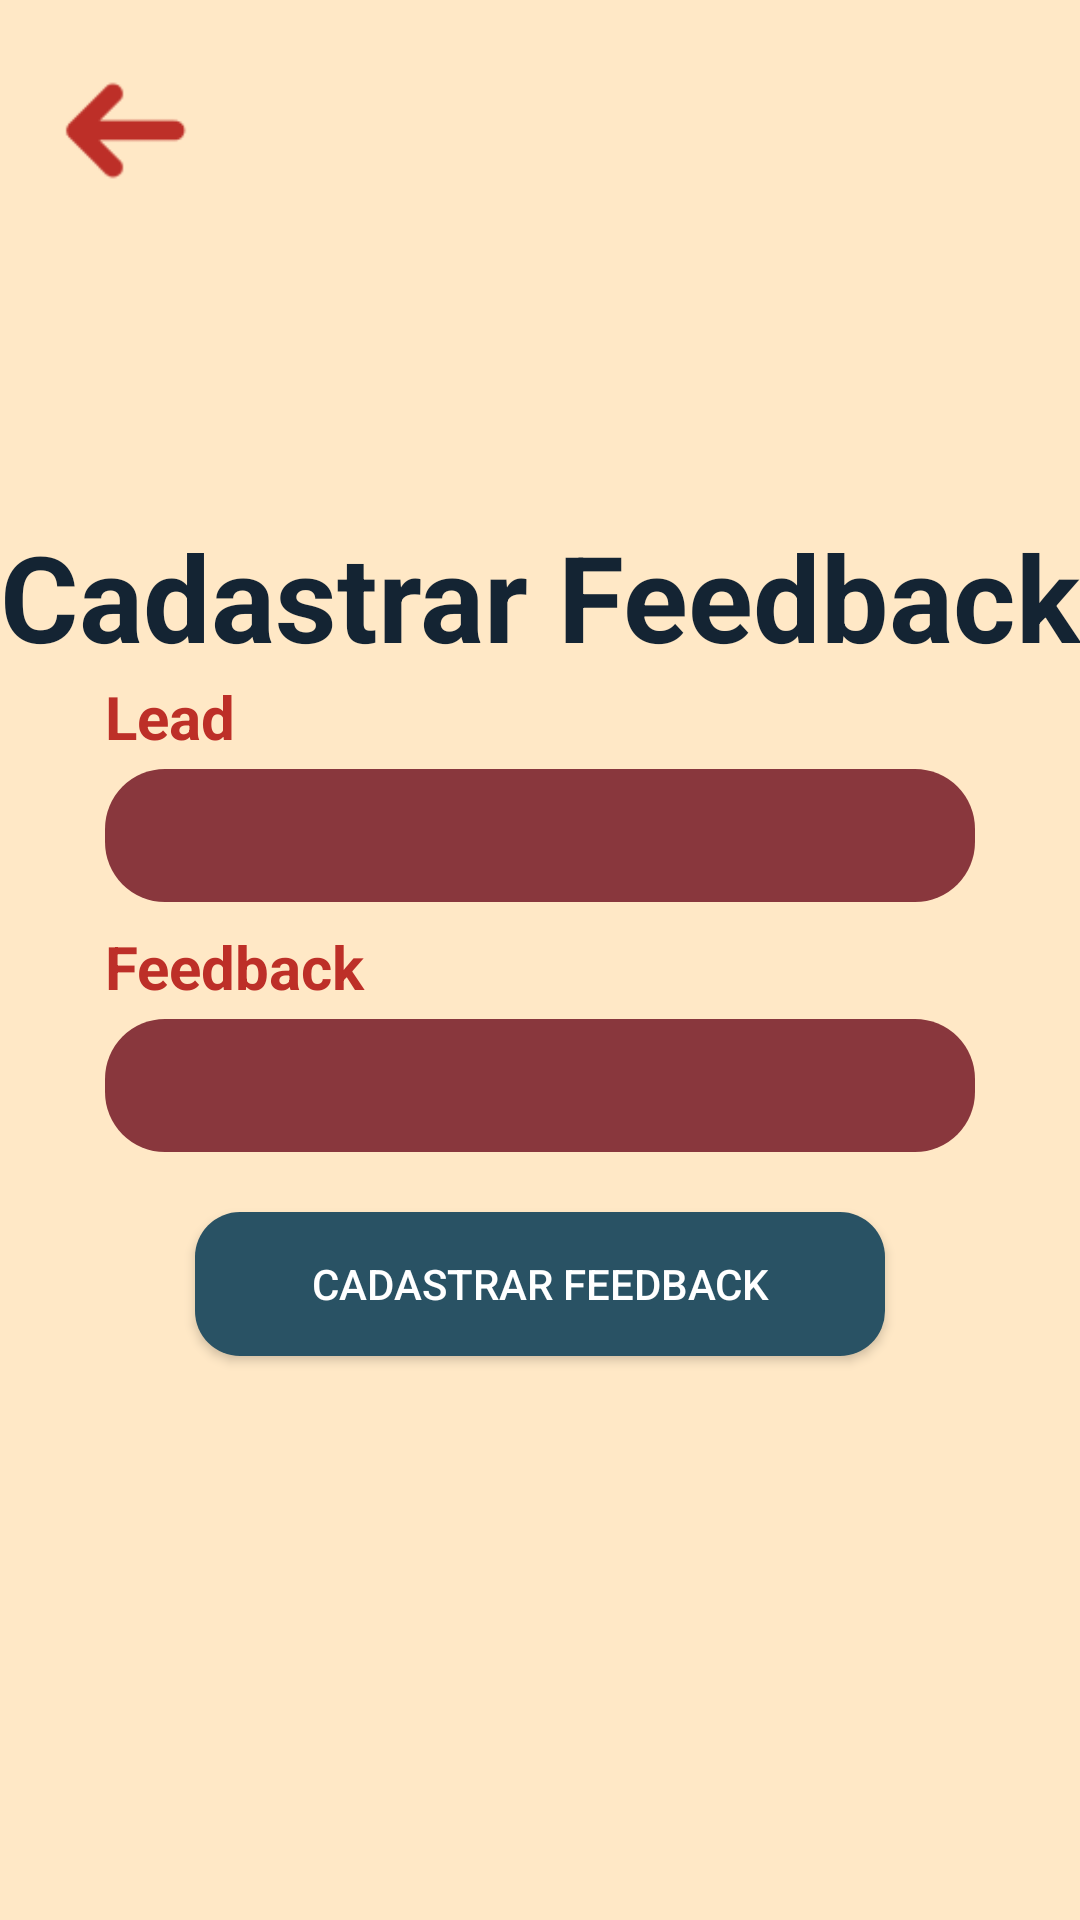

Icon click points for this 1080px×1920px phone screenshot, format (x=x, y=y):
arrow: (x=126, y=130)
